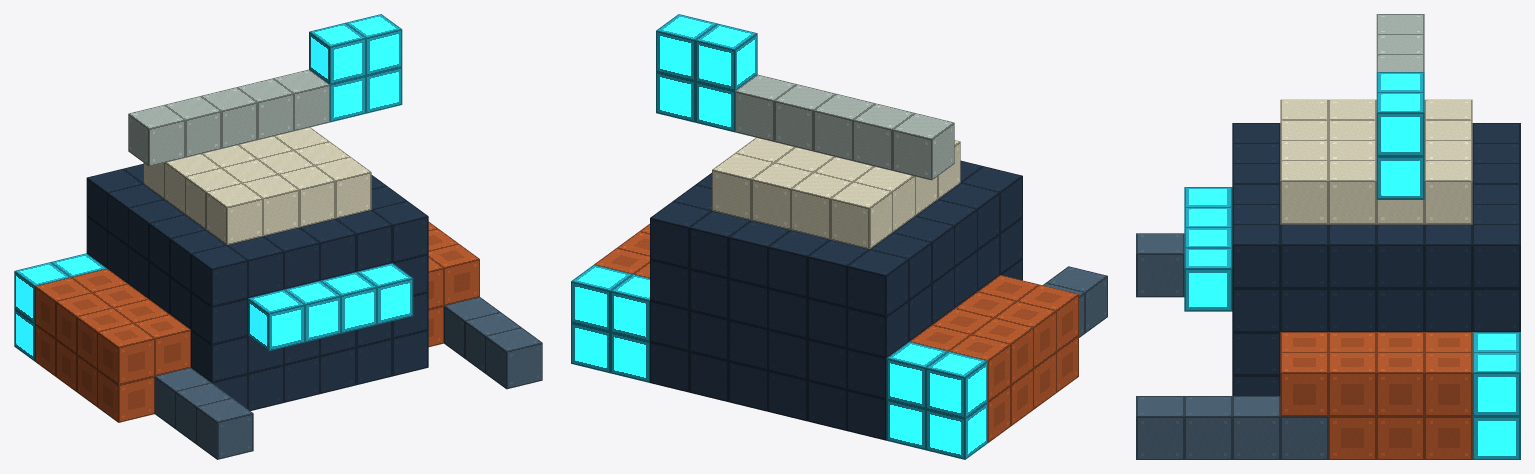
The model's file is service_drone.glb.
3 renders of one model, left to right at view 1: azimuth 30°, elevation 25°; view 2: azimuth 150°, elevation 25°; view 3: azimuth 270°, elevation 25°, orthographic. The views are drawn at different scales.
Parts seen in each view (by area): view 1: DroneHull, DroneScanner; view 2: DroneHull, DroneScanner; view 3: DroneHull, DroneScanner.
Boxes of the visible parts, x1,y1,x2,y2 form: DroneHull: [14, 127, 542, 459]; DroneScanner: [128, 14, 402, 166]; DroneHull: [571, 137, 1107, 459]; DroneScanner: [656, 14, 954, 180]; DroneHull: [1136, 99, 1520, 459]; DroneScanner: [1376, 14, 1424, 199].
Size of the model in its own units: 2.5 by 1.88 by 2.
Materials: 1 (1 with a texture image).
